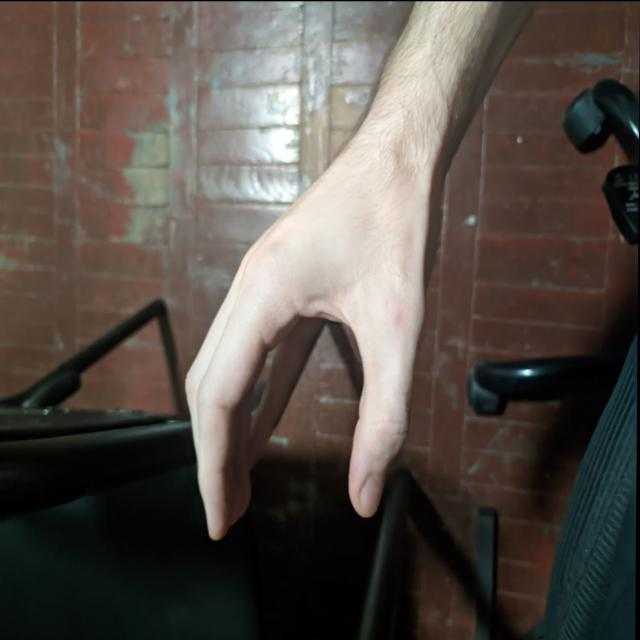s: (184, 128, 482, 560)
